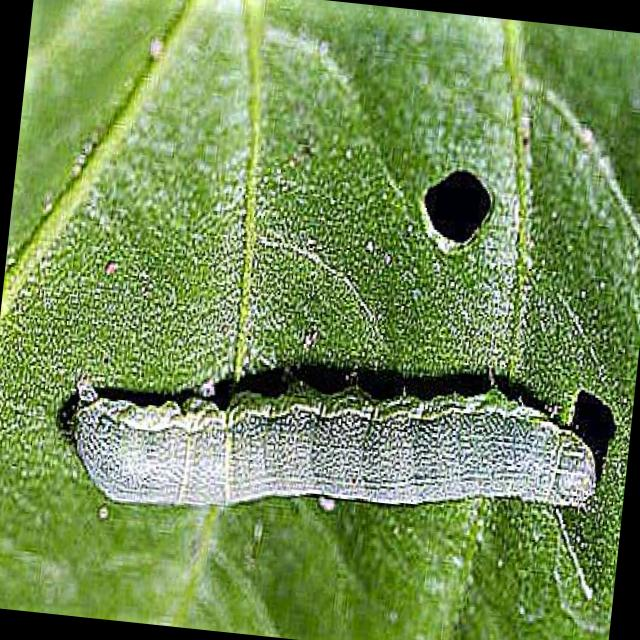Armyworm: (32, 285, 614, 564)
Armyworm_damage: (408, 136, 516, 263)
